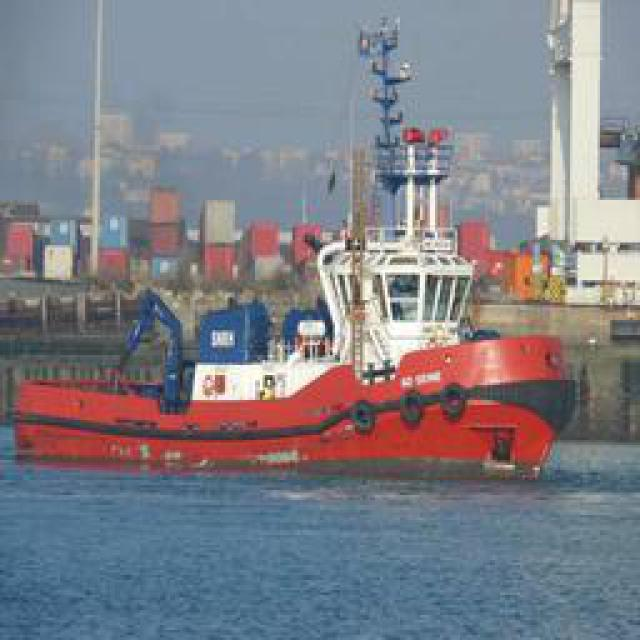Ship: (25, 152, 570, 462)
